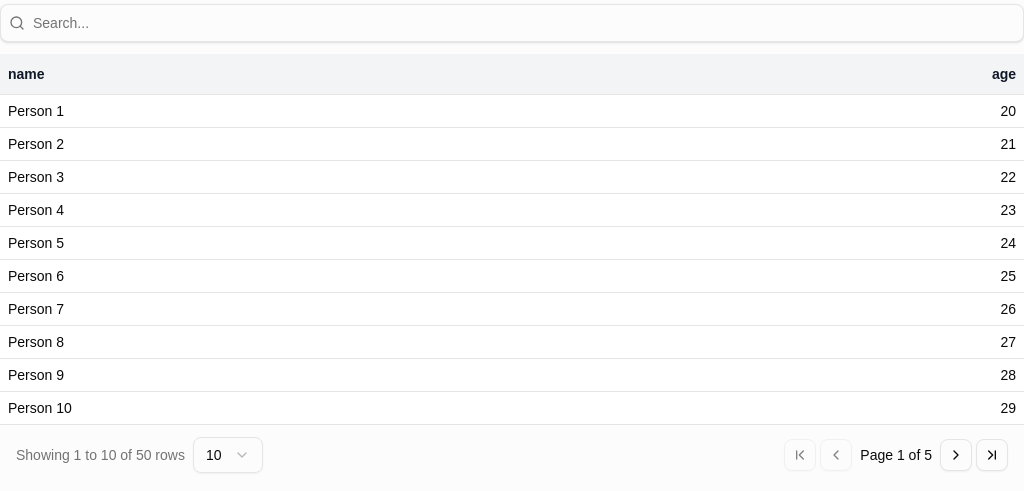
Test case: TableChart › Client-Side Pagination › should paginate and navigate
Expected: the text "Showing 1 to 10 of 50 rows" is shown, [16,444,185,464]
Expected: the text "Person 1" is shown, [0,94,682,127]
Click the 3rd button.
click(956, 454)  # box [940,438,972,470]
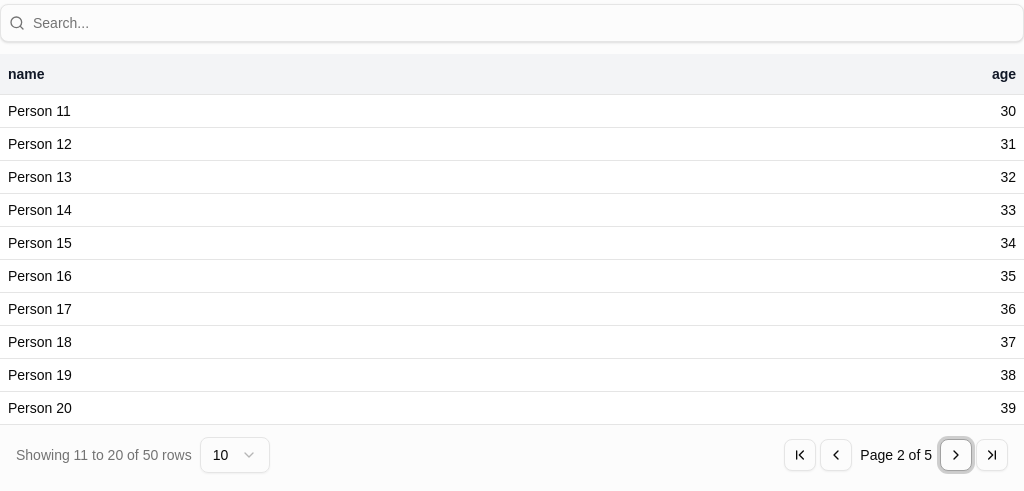
Expected: the text "Person 11" is shown, [0,94,682,127]
